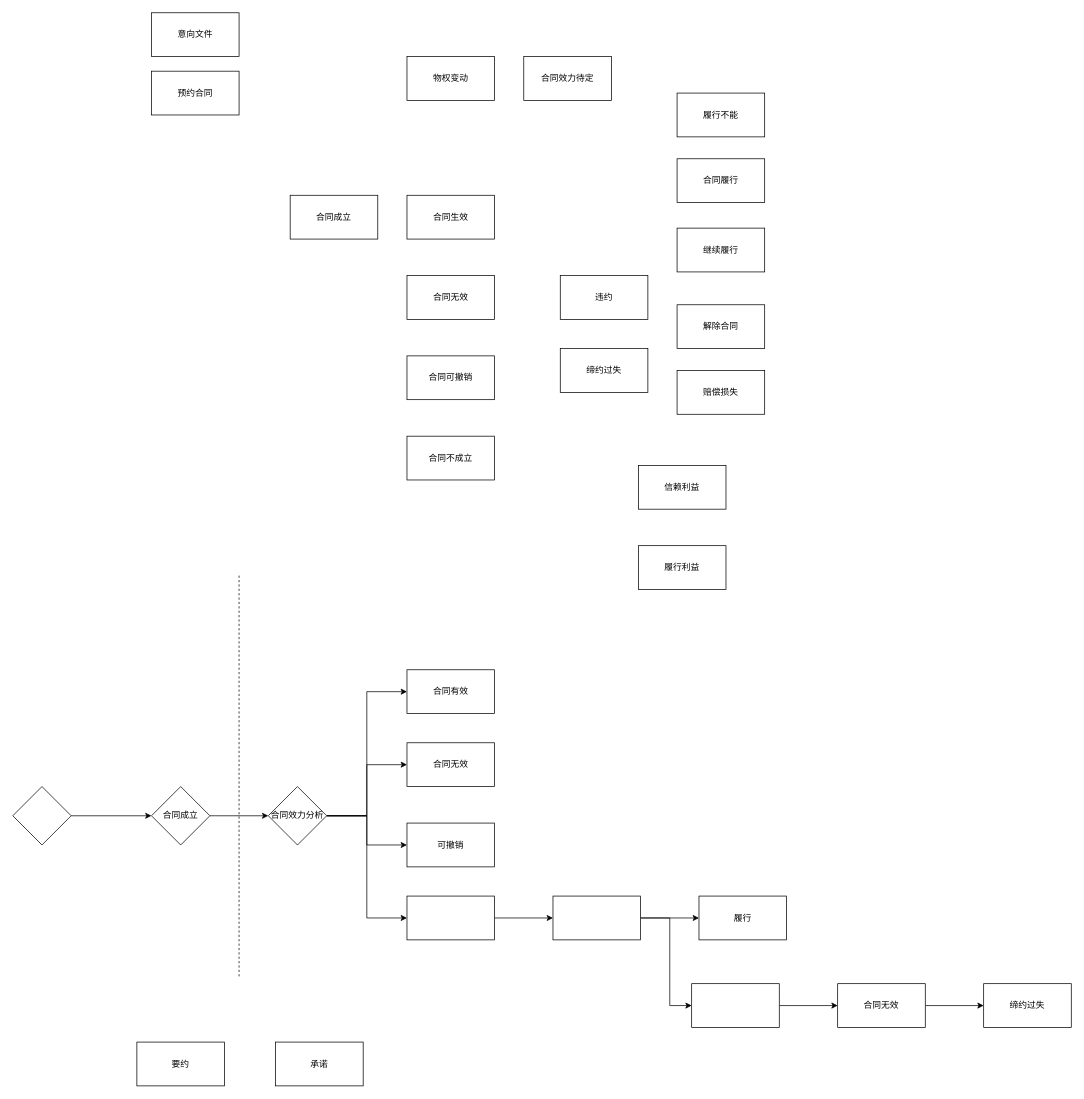
This 1084x1099 diagram has some shape labels left out. The shapes that lost their labels are listed below. From the top down, each one's centre as x and y in pixels, then its label:
At point 41,815: "合同订立".
At point 450,917: "效力待定".
At point 596,917: "追认".
At point 735,1005: "撤销".
